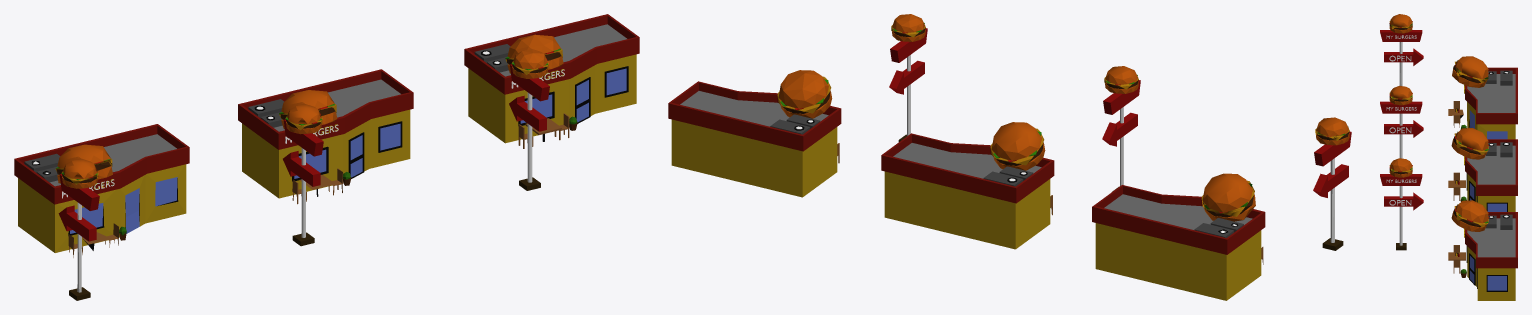
The model's file is 1myburgers.fbx.
3 views of the same model, side by side, from view 1: azimuth 30°, elevation 25°; view 2: azimuth 150°, elevation 25°; view 3: azimuth 270°, elevation 25° (orthographic). The views are drawn at different scales.
Parts seen in each view (by area): view 1: building.002, building.001, building, sign, sign.001, sign.002; view 2: building, building.001, building.002, sign.002, sign, sign.001; view 3: building, building.001, building.002, sign, sign.001, sign.002, table, table.001, table.002.
Boxes of the visible parts, left/top/right/bottom form: building.002: left=14, top=124, right=189, bottom=252; building.001: left=238, top=69, right=413, bottom=198; building: left=464, top=14, right=639, bottom=143; sign: left=509, top=49, right=549, bottom=190; sign.001: left=283, top=104, right=323, bottom=246; sign.002: left=58, top=159, right=99, bottom=300; building: left=668, top=70, right=841, bottom=197; building.001: left=881, top=122, right=1054, bottom=249; building.002: left=1092, top=173, right=1265, bottom=300; sign.002: left=1313, top=117, right=1351, bottom=250; sign: left=889, top=14, right=927, bottom=141; sign.001: left=1102, top=66, right=1140, bottom=191; building: left=1451, top=200, right=1517, bottom=300; building.001: left=1451, top=128, right=1517, bottom=211; building.002: left=1452, top=56, right=1517, bottom=139; sign: left=1380, top=158, right=1423, bottom=250; sign.001: left=1380, top=85, right=1423, bottom=158; sign.002: left=1380, top=14, right=1423, bottom=85; table: left=1448, top=252, right=1465, bottom=260; table.001: left=1448, top=180, right=1465, bottom=187; table.002: left=1448, top=109, right=1463, bottom=118.
Bounding box in the file's own units: 7646 × 1562 × 2199.
